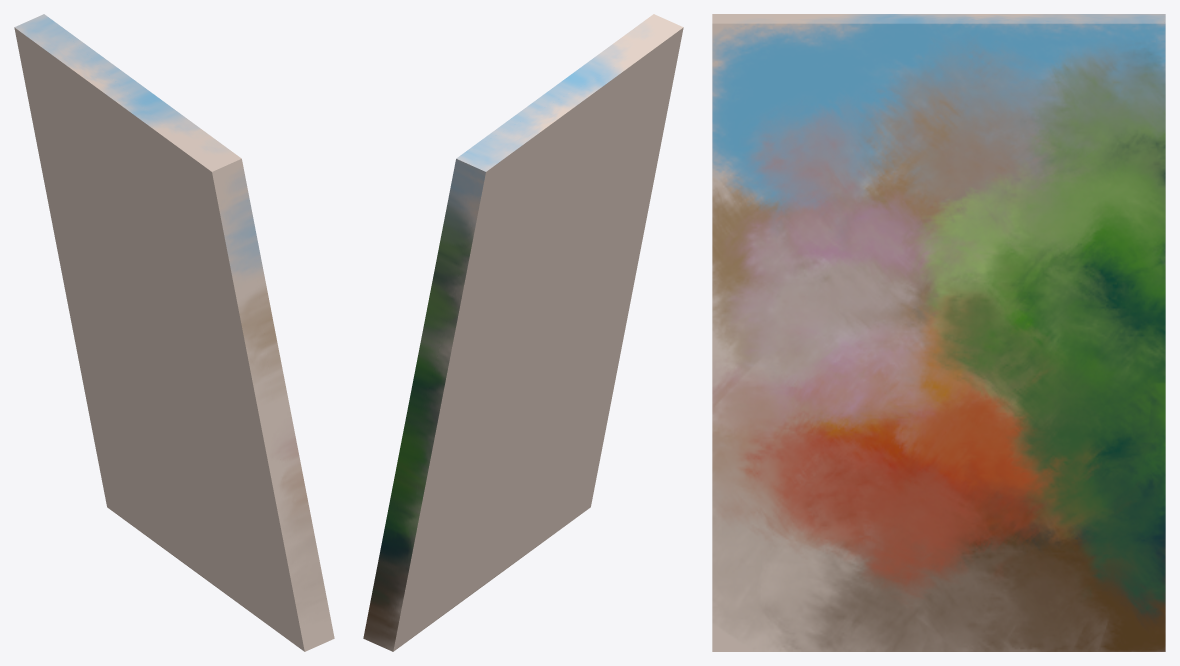
Rendered from canvas.fbx.
3 renders of one model, left to right at view 1: azimuth 30°, elevation 25°; view 2: azimuth 150°, elevation 25°; view 3: azimuth 270°, elevation 25°, orthographic. The views are drawn at different scales.
Visible parts, largest first — view 1: painting; view 2: painting; view 3: painting.
Boxes of the visible parts, x1,y1,x2,y2 form: painting: [14, 14, 334, 651]; painting: [363, 14, 683, 651]; painting: [712, 14, 1165, 651].
Size of the model in its own units: 29.46 by 117 by 82.2.
1 material, 1 textured.
